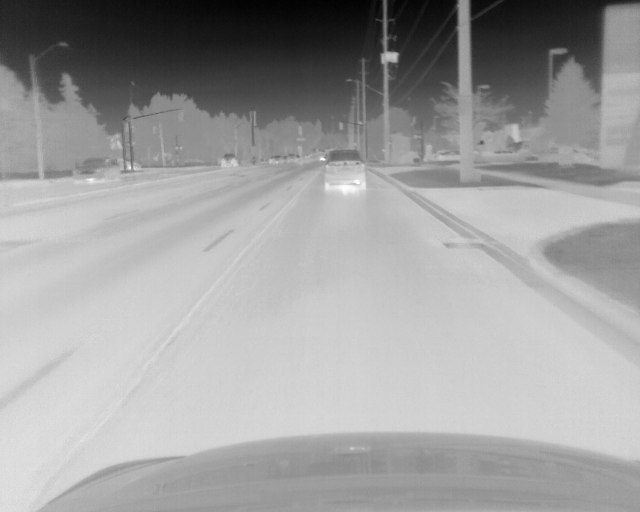car: (324, 151, 366, 190), (71, 157, 118, 184), (220, 154, 238, 168)
